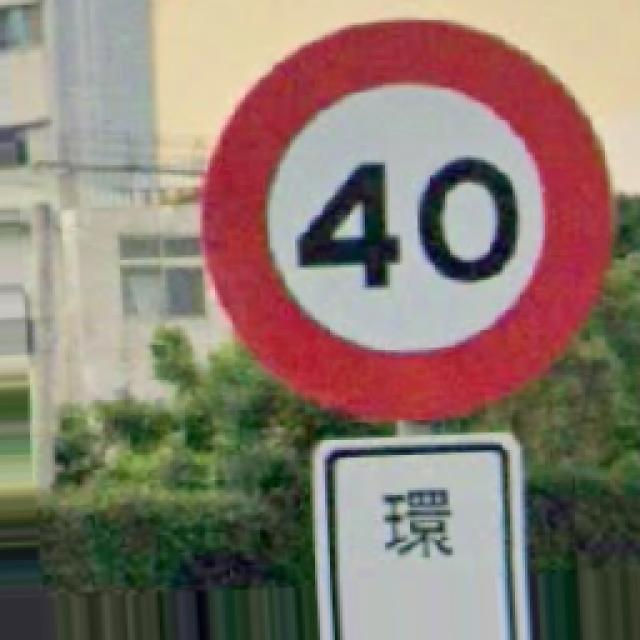Speed Limit -40-: (205, 22, 608, 415)
